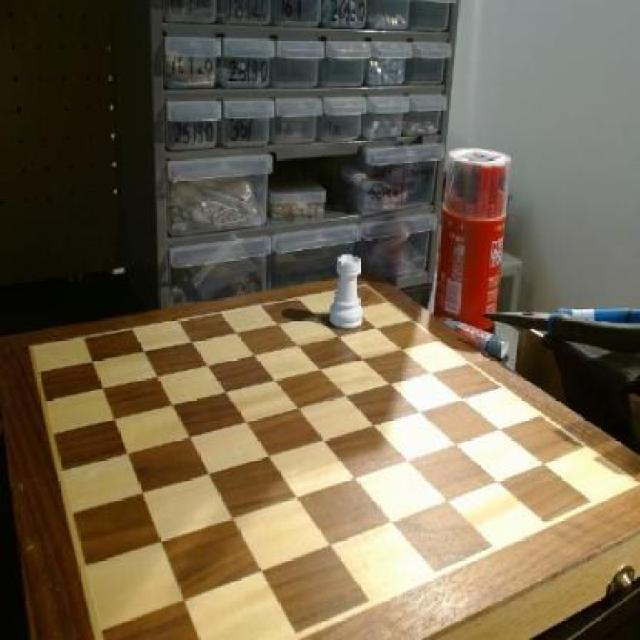white-queen: (329, 252, 367, 334)
